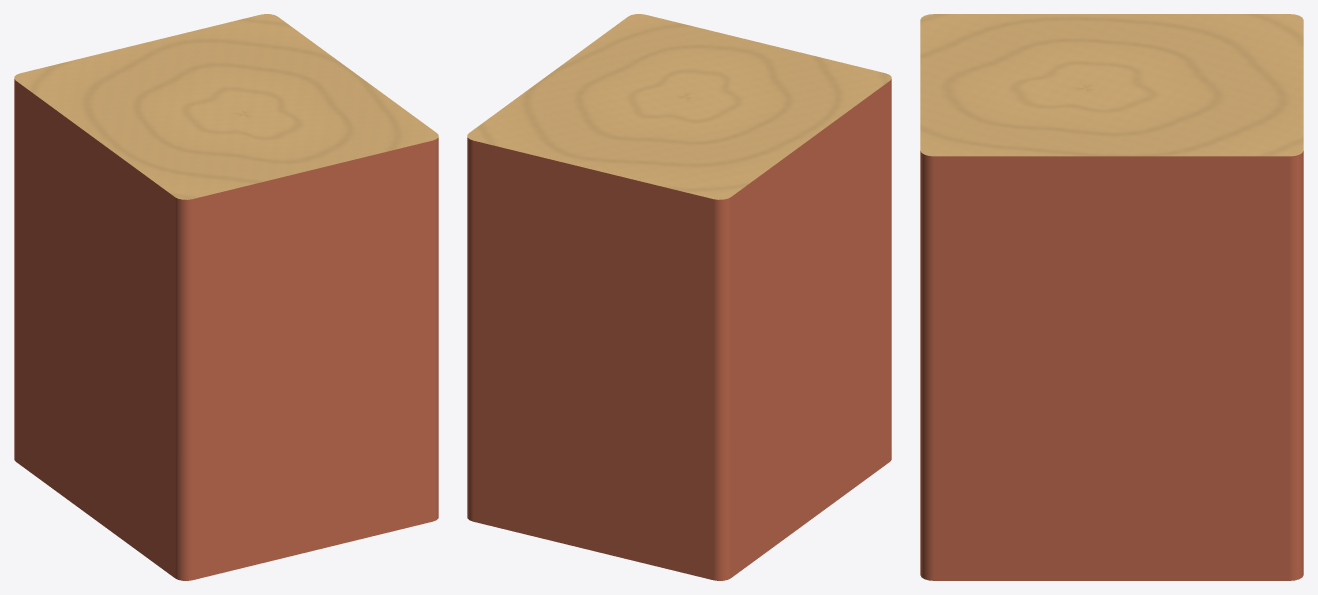
Rendered from source.glb.
3 views of the same model, side by side, from view 1: azimuth 30°, elevation 25°; view 2: azimuth 150°, elevation 25°; view 3: azimuth 270°, elevation 25° (orthographic). The views are drawn at different scales.
Parts seen in each view (by area): view 1: Block_Paint_Front, Block_Painted_Body, Block_Wood_Bottom; view 2: Block_Paint_Back, Block_Painted_Body, Block_Wood_Bottom; view 3: Block_Paint_Left, Block_Wood_Bottom, Block_Paint_Front, Block_Paint_Back.
Part boxes in pixels (x1,y1,x2,y2): Block_Paint_Front: [182, 138, 438, 580]; Block_Painted_Body: [14, 79, 182, 580]; Block_Wood_Bottom: [14, 14, 438, 199]; Block_Paint_Back: [467, 138, 723, 580]; Block_Painted_Body: [723, 79, 891, 580]; Block_Wood_Bottom: [467, 14, 891, 199]; Block_Paint_Left: [924, 155, 1299, 580]; Block_Wood_Bottom: [920, 14, 1303, 156]; Block_Paint_Front: [920, 151, 924, 578]; Block_Paint_Back: [1299, 151, 1303, 578].
Bounding box in the file's own units: 0.095 × 0.132 × 0.108.
Materials: 2 (1 with a texture image).
